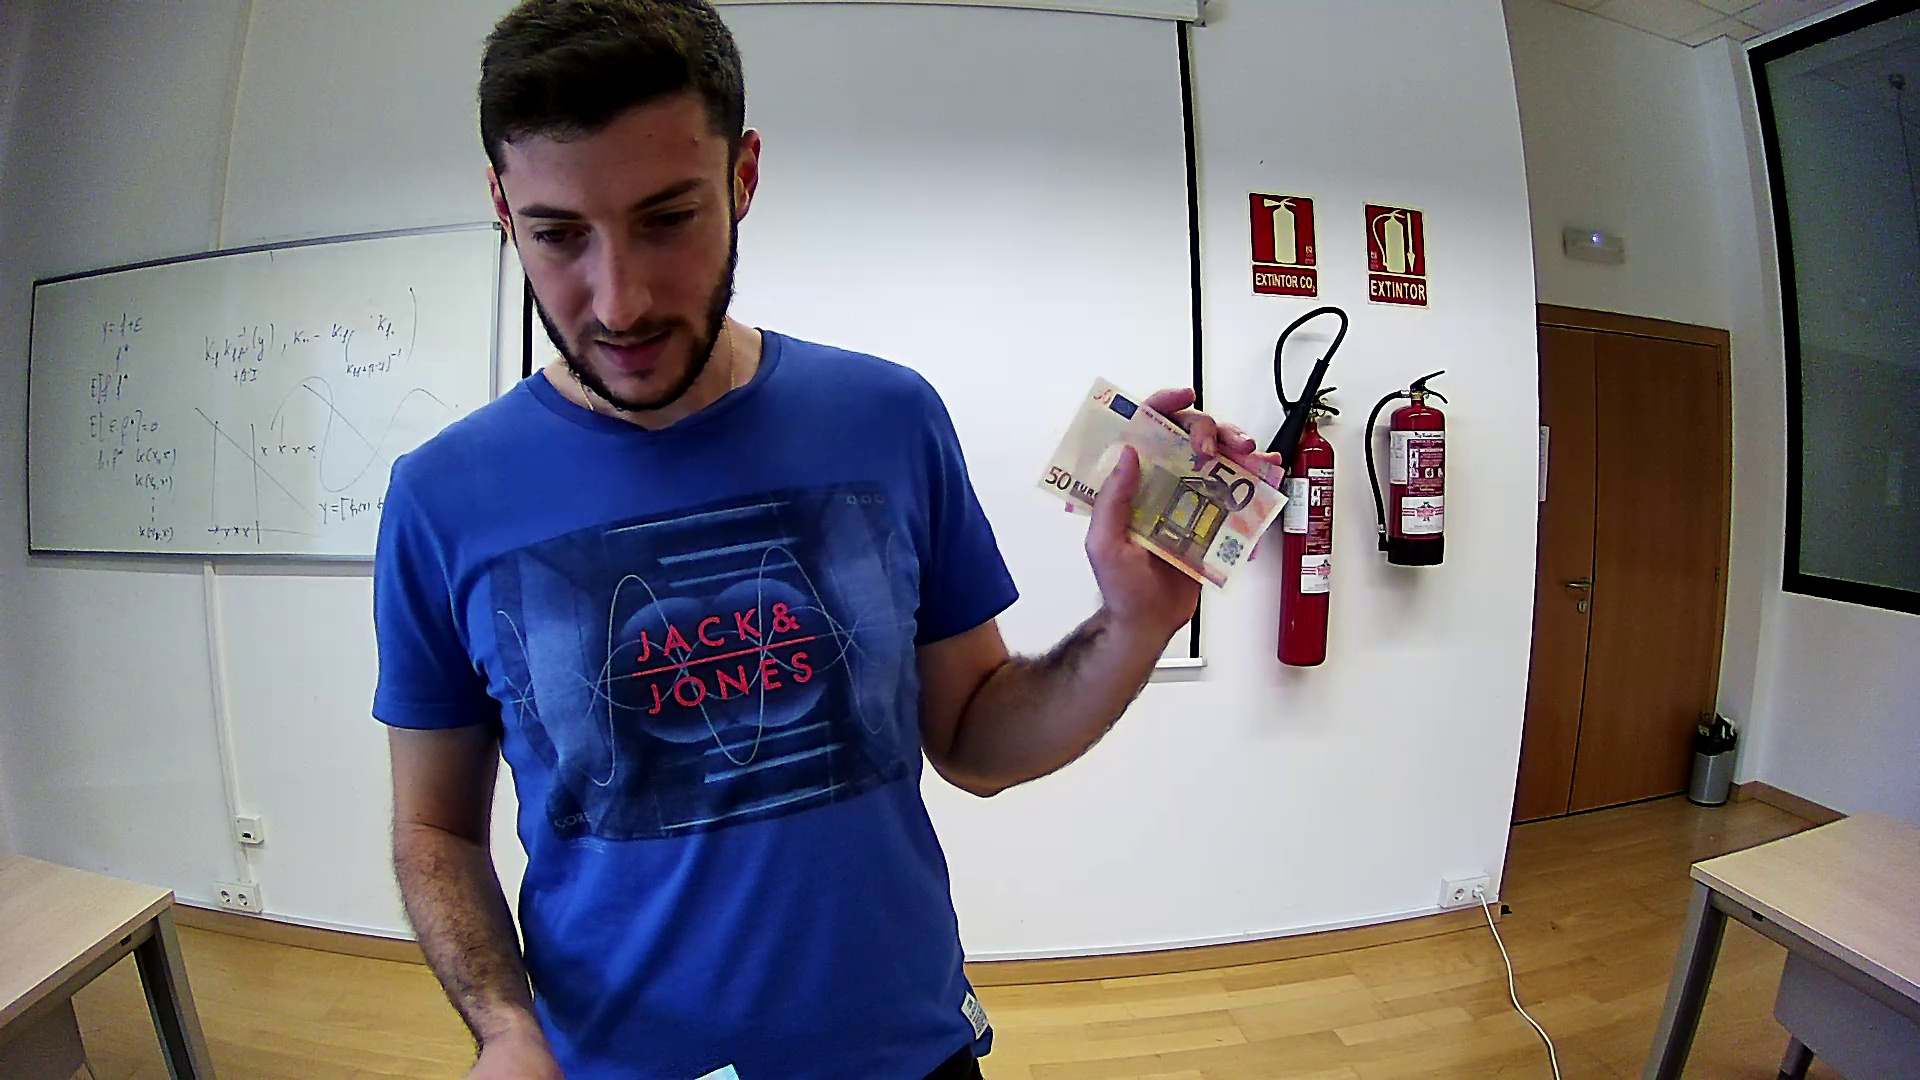billete: (1035, 375, 1290, 593)
